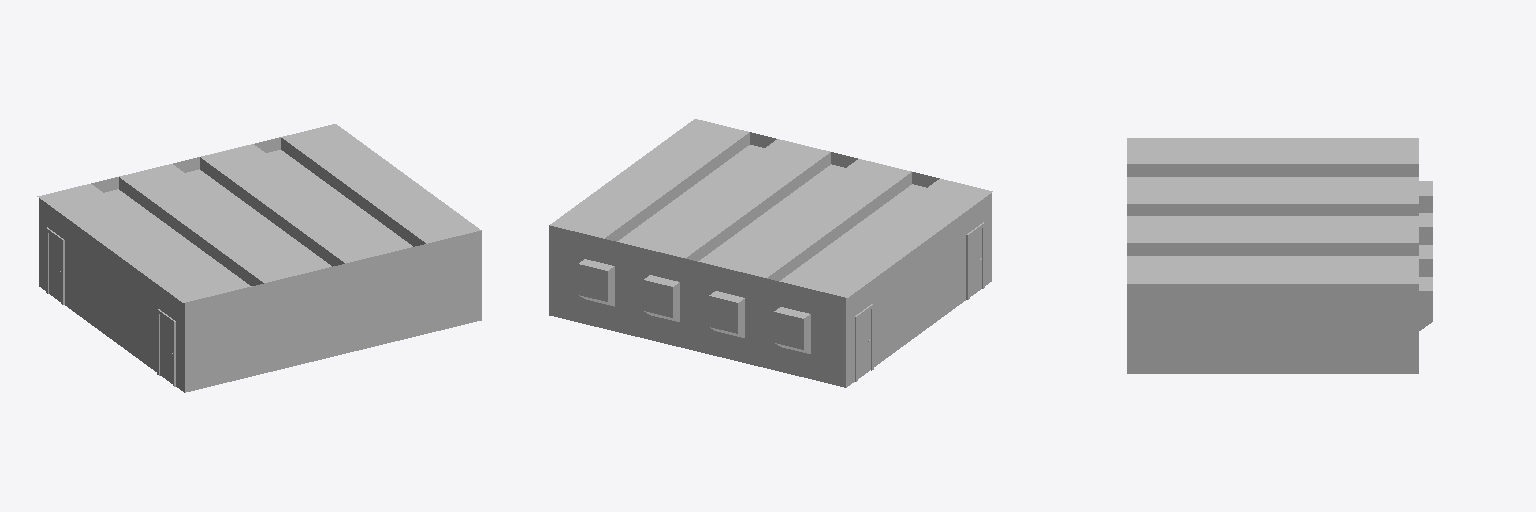
Rendered from cba ruimte 15K.obj.
The picture shows the model from 3 angles: view 1: azimuth 30°, elevation 25°; view 2: azimuth 150°, elevation 25°; view 3: azimuth 270°, elevation 25°; orthographic projection.
Visible parts, largest first — view 1: ext_muur.002_Plane.1211, ext_muur.001_Plane.1210, ext_muur.004_Plane.003, ext_muur.006_Plane.005, ext_plafond.007_Plane.037, ext_plafond.003_Plane.032, ext_plafond.006_Plane.035, ext_plafond.005_Plane.034, ext_plafond.004_Plane.033, ext_plafond.002_Plane.031, ext_plafond.001_Plane.030, ext_plafond_Plane.029 (+10 smaller); view 2: ext_muur.013_Plane.011, ext_muur.007_Plane.006, ext_muur.004_Plane.003, ext_muur.006_Plane.005, ext_plafond.007_Plane.037, ext_plafond.006_Plane.035, ext_plafond.005_Plane.034, ext_plafond.003_Plane.032, ext_plafond_Plane.029, ext_plafond.004_Plane.033, ext_plafond.002_Plane.031, ext_plafond.001_Plane.030 (+19 smaller); view 3: ext_muur_Plane.1208, ext_plafond.012_Plane.042, ext_plafond.008_Plane.038, ext_plafond.010_Plane.040, ext_plafond.007_Plane.037, ext_plafond.006_Plane.035, ext_plafond.004_Plane.033, ext_plafond.003_Plane.032, ext_plafond_Plane.029, ext_plafond.005_Plane.034, ext_plafond.002_Plane.031, ext_plafond.001_Plane.030.
Part boxes in pixels (x1,y1,x2,y2): ext_muur.002_Plane.1211: (185,230,481,367); ext_muur.001_Plane.1210: (185,296,481,392); ext_muur.004_Plane.003: (65,241,157,371); ext_muur.006_Plane.005: (39,198,184,327); ext_plafond.007_Plane.037: (319,124,480,234); ext_plafond.003_Plane.032: (155,164,316,274); ext_plafond.006_Plane.035: (281,133,443,243); ext_plafond.005_Plane.034: (236,144,398,254); ext_plafond.004_Plane.033: (201,153,361,263); ext_plafond.002_Plane.031: (119,172,280,282); ext_plafond.001_Plane.030: (74,184,235,293); ext_plafond_Plane.029: (37,192,199,302); ext_muur.013_Plane.011: (549,225,845,321); ext_muur.007_Plane.006: (549,291,845,387); ext_muur.004_Plane.003: (872,235,965,366); ext_muur.006_Plane.005: (846,193,991,321); ext_plafond.007_Plane.037: (550,119,711,229); ext_plafond.006_Plane.035: (587,128,748,238); ext_plafond.005_Plane.034: (632,139,794,249); ext_plafond.003_Plane.032: (714,159,875,269); ext_plafond_Plane.029: (830,187,992,297); ext_plafond.004_Plane.033: (669,148,829,257); ext_plafond.002_Plane.031: (749,167,911,277); ext_plafond.001_Plane.030: (795,179,956,288); ext_muur_Plane.1208: (1127,284,1418,373); ext_plafond.012_Plane.042: (1127,243,1418,255); ext_plafond.008_Plane.038: (1127,164,1418,176); ext_plafond.010_Plane.040: (1127,204,1418,215); ext_plafond.007_Plane.037: (1127,275,1418,283); ext_plafond.006_Plane.035: (1127,257,1418,265); ext_plafond.004_Plane.033: (1127,217,1418,225); ext_plafond.003_Plane.032: (1127,195,1418,203); ext_plafond_Plane.029: (1127,138,1418,146); ext_plafond.005_Plane.034: (1127,235,1418,242); ext_plafond.002_Plane.031: (1127,178,1418,185); ext_plafond.001_Plane.030: (1127,156,1418,163).
Bounding box in the file's own units: 10.05 × 2.9 × 8.9.